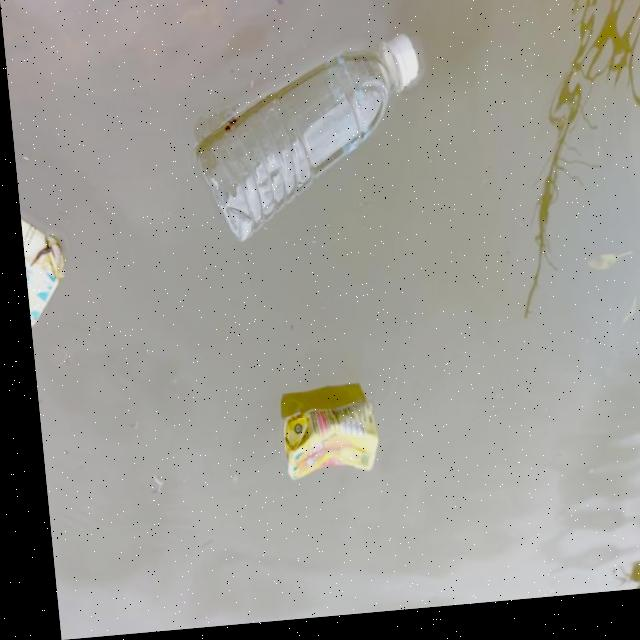paper: (273, 376, 390, 499), (14, 180, 70, 336)
waterbottle: (169, 27, 443, 244)
